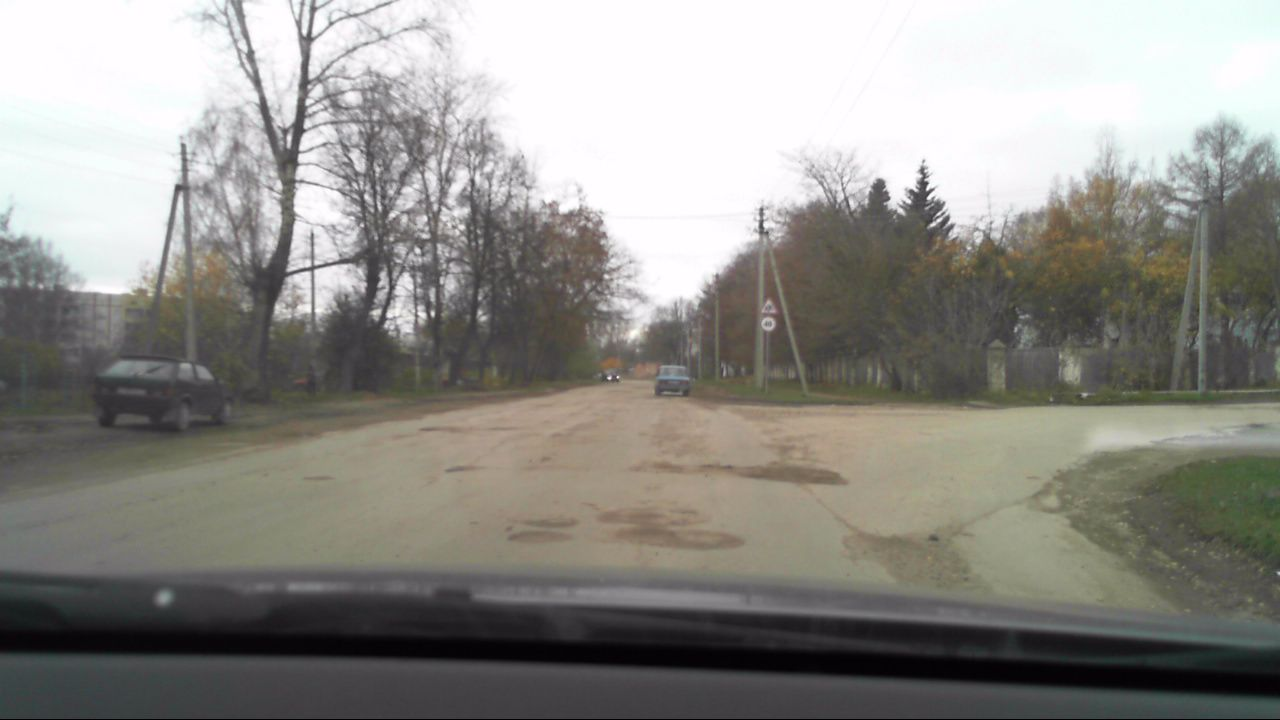speed_warning_40: (760, 314, 778, 332)
